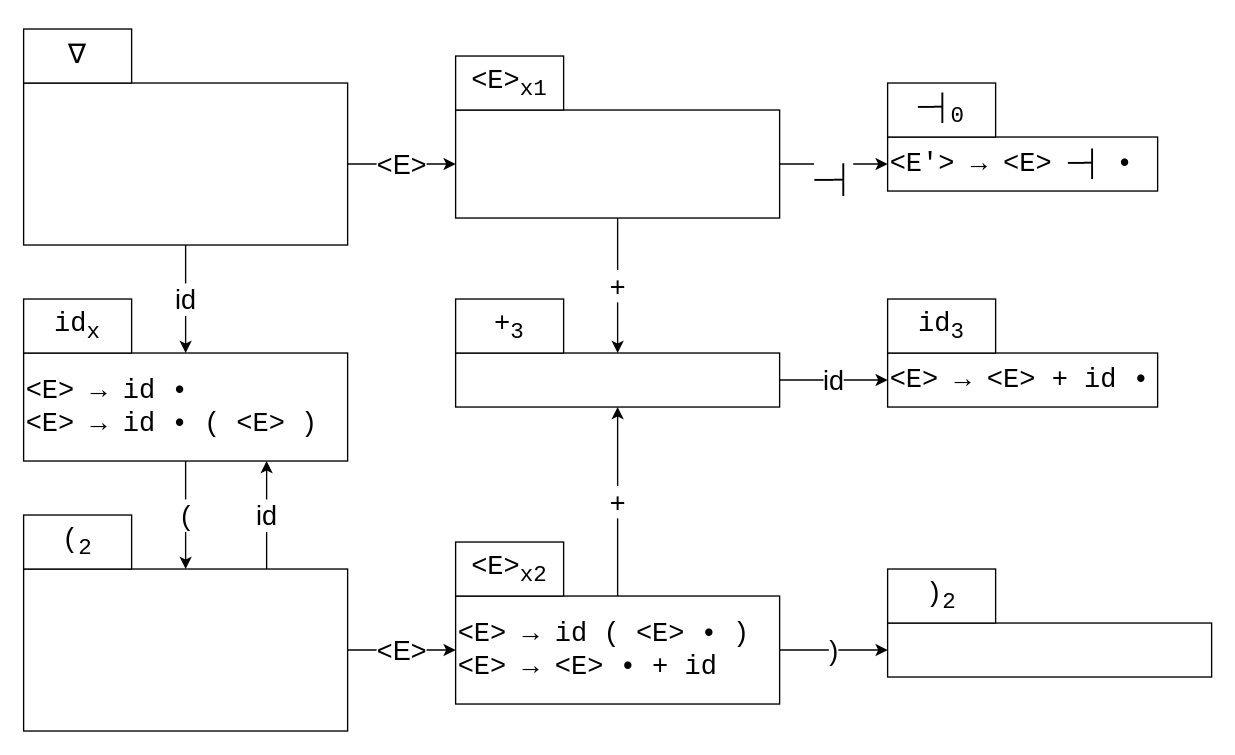
This 1235x755 diagram has some shape labels left out. Each missing label, with the box of its shape:
<E'> → <E> • ─┤ <E> → <E> • + id: (454, 109, 780, 218)
<E'> → • <E> ─┤ <E> → • id <E> → • id ( <E> ) <E> → • <E> + id: (22, 82, 348, 245)
<E> → <E> + • id: (454, 352, 780, 407)
<E> → id ( <E> ) •: (886, 622, 1212, 677)
<E> → id ( • <E> ) <E> → • id <E> → • id ( <E> ) <E> → • <E> + id: (22, 568, 348, 731)
